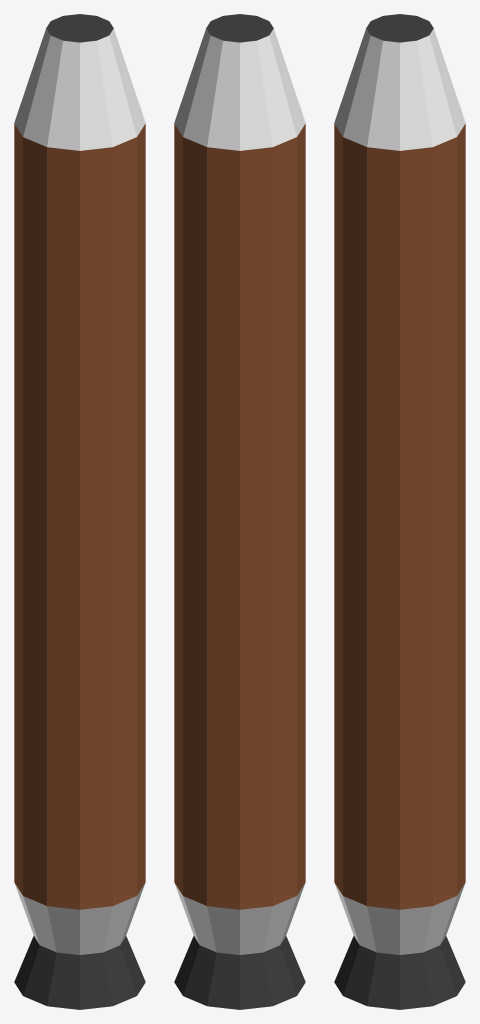
Rendered from Booster00.gltf.
3 renders of one model, left to right at view 1: azimuth 90°, elevation 25°; view 2: azimuth 210°, elevation 25°; view 3: azimuth 270°, elevation 25°, orthographic.
Visible parts, largest first — view 1: Booster00; view 2: Booster00; view 3: Booster00.
Boxes of the visible parts, bbox=[...] form: Booster00: bbox=[14, 14, 145, 1009]; Booster00: bbox=[174, 14, 305, 1009]; Booster00: bbox=[334, 14, 465, 1009].
Size of the model in its own units: 0.25 by 2 by 0.25.
